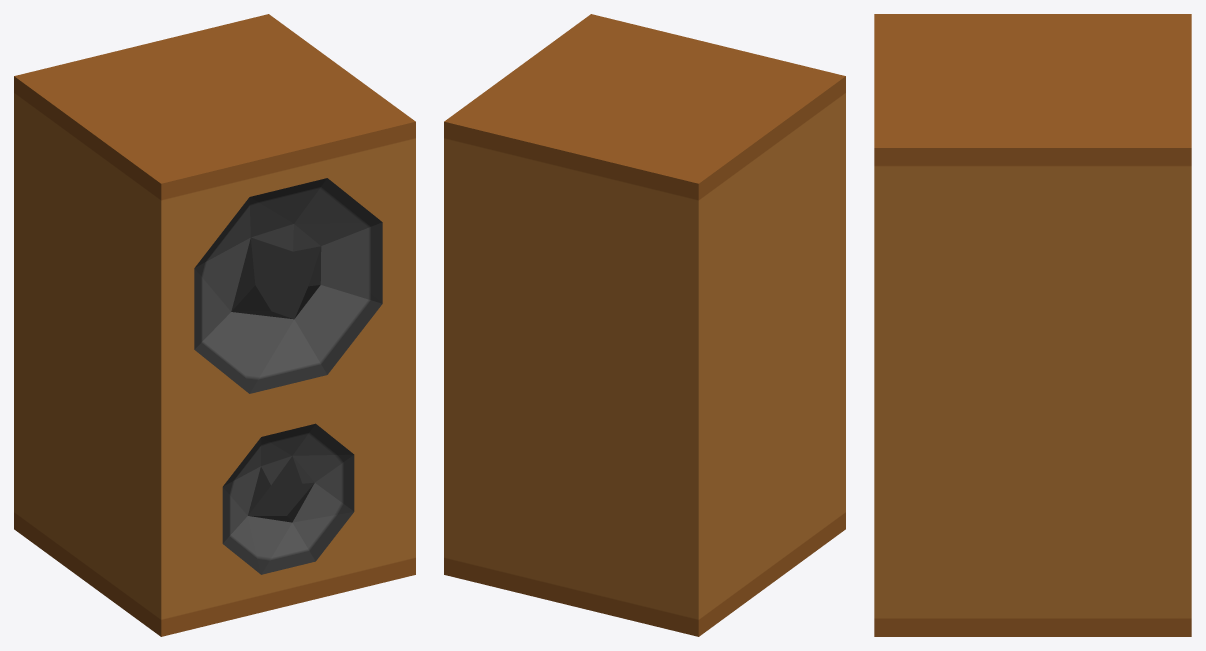
The model's file is speaker_decimated.fbx.
3 renders of one model, left to right at view 1: azimuth 30°, elevation 25°; view 2: azimuth 150°, elevation 25°; view 3: azimuth 270°, elevation 25°, orthographic. The views are drawn at different scales.
Parts seen in each view (by area): view 1: Plane.002; view 2: Plane.002; view 3: Plane.002.
Boxes of the visible parts, <box> form: Plane.002: <box>14,14,415,636</box>; Plane.002: <box>444,14,845,636</box>; Plane.002: <box>874,14,1191,636</box>.
Bounding box in the file's own units: 200 × 340 × 200.
